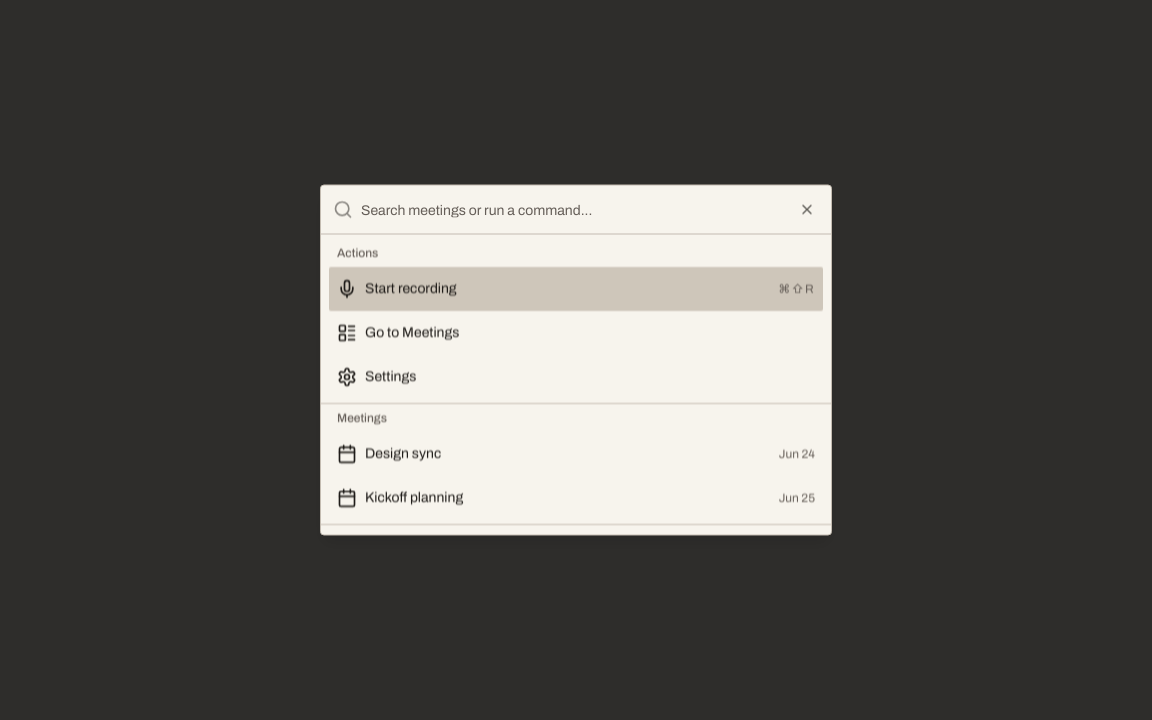
Test: CommandPalette — Ask AI action (specs/0035) › shows the Ask row WITHOUT a contradictory "No results found." when nothing matches at all
Check: the text "Design sync" is shown, box [365,446,441,460]
Type "zzqx totally unrelated" into the dropdown with placeholder "Search meetings or run a command..." at {"x": 590, "y": 210}, box [361,186,819,234]
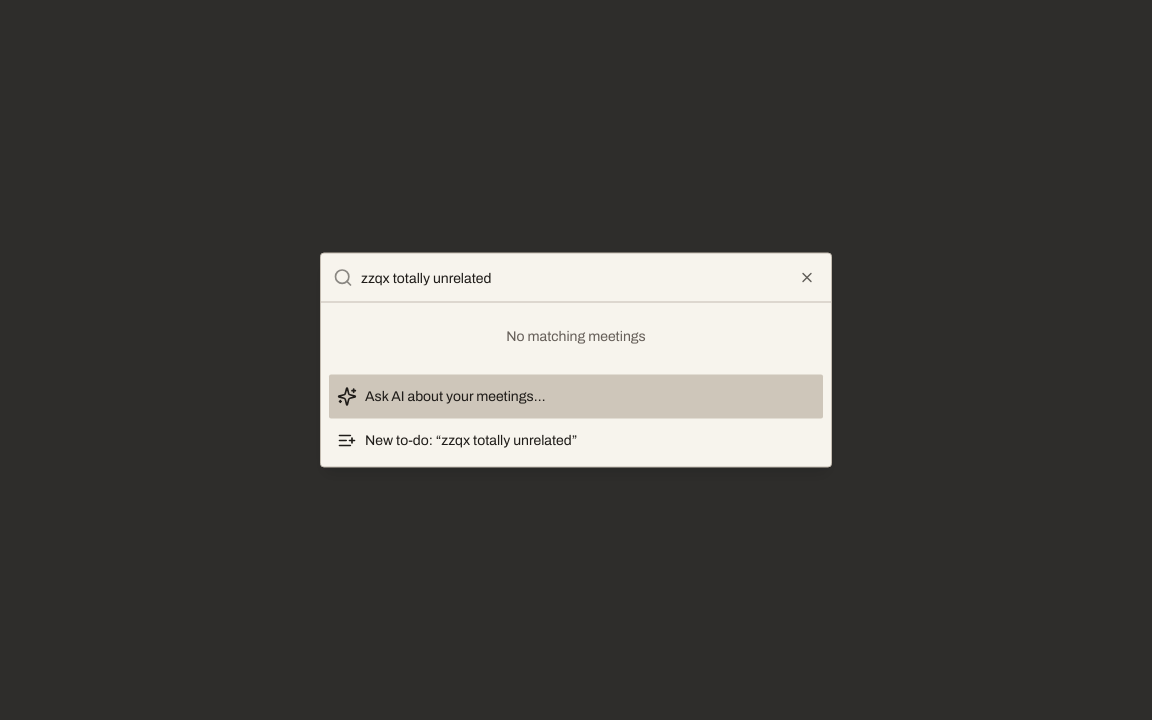
Check: the text "Ask AI about your meetings…" is shown, box [365,386,546,406]
Check: the text "No matching meetings" is shown, box [506,328,646,344]
